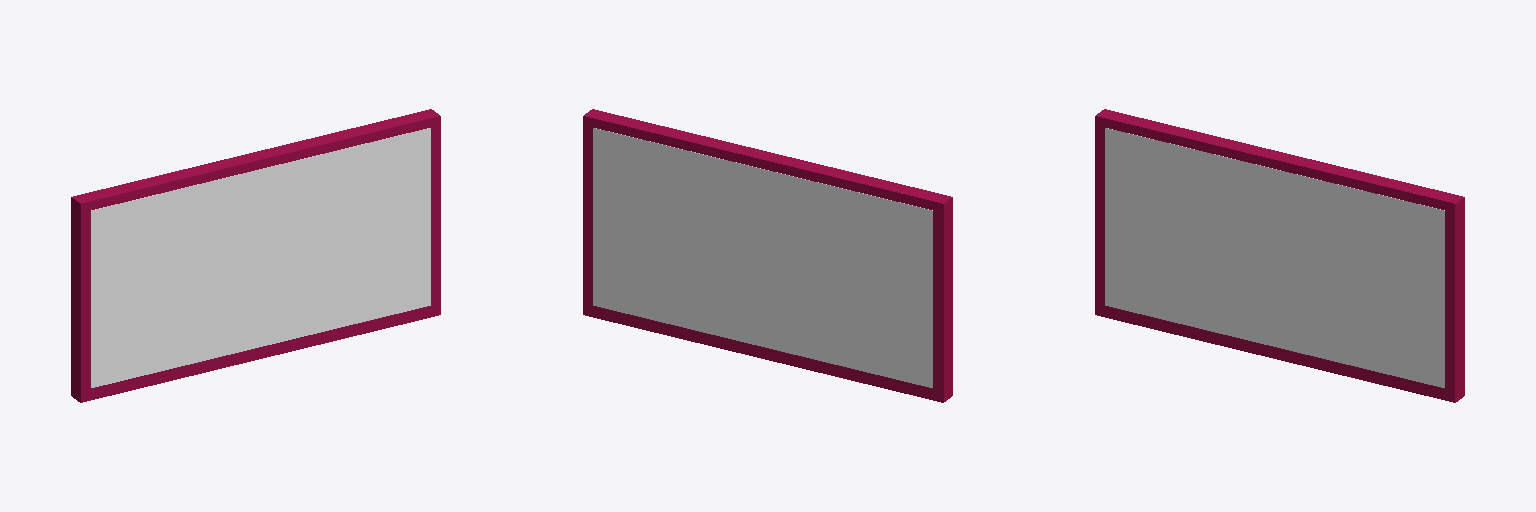
The model's file is BA_Pad_03.obj.
3 views of the same model, side by side, from view 1: azimuth 30°, elevation 25°; view 2: azimuth 150°, elevation 25°; view 3: azimuth 330°, elevation 25° (orthographic).
Parts seen in each view (by area): view 1: Box002, Box003; view 2: Box002, Box003; view 3: Box002, Box003.
Part boxes in pixels (left/top/right/bottom): Box002: left=91, top=128, right=430, bottom=387; Box003: left=71, top=109, right=440, bottom=402; Box002: left=593, top=128, right=932, bottom=387; Box003: left=583, top=109, right=952, bottom=402; Box002: left=1105, top=128, right=1444, bottom=387; Box003: left=1095, top=109, right=1464, bottom=402.
Size of the model in its own units: 106 by 56 by 5.